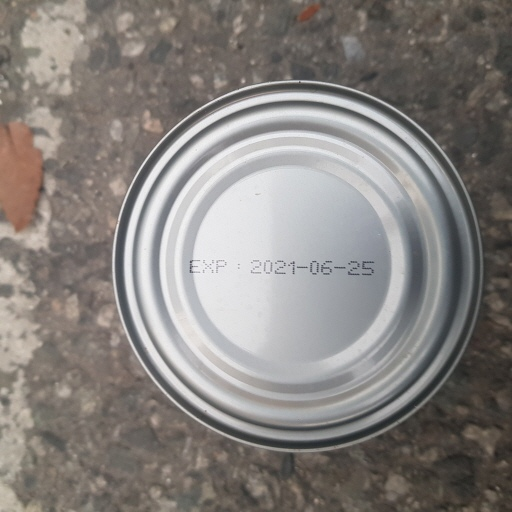Metal_1: (110, 80, 489, 455)
